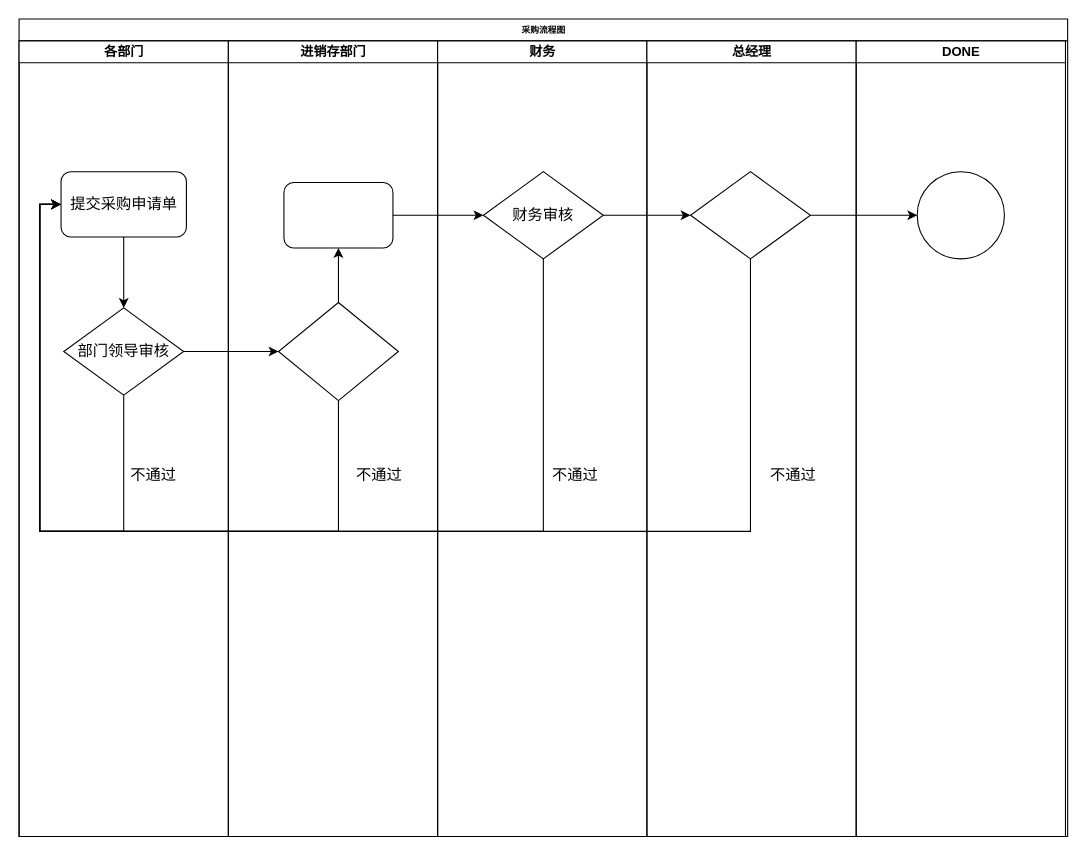
Image size: 1087x856. Some labels were removed from this diagram. The shapes that lost their labels are listed below. From the top down, each one's centre as x and y in pixels, then its label:
At [338,214]: "生成采购单".
At [749,215]: "总经理审核".
At [960,215]: "完成".
At [337,351]: "进销存审核".
